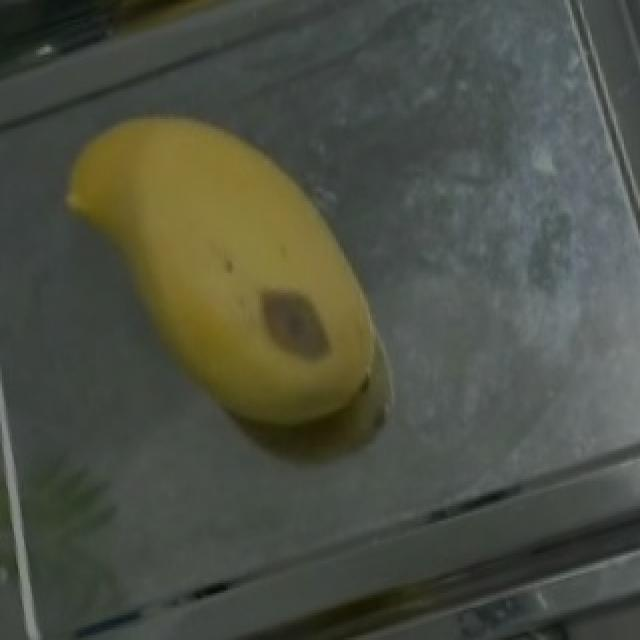fruit: (28, 47, 418, 439)
